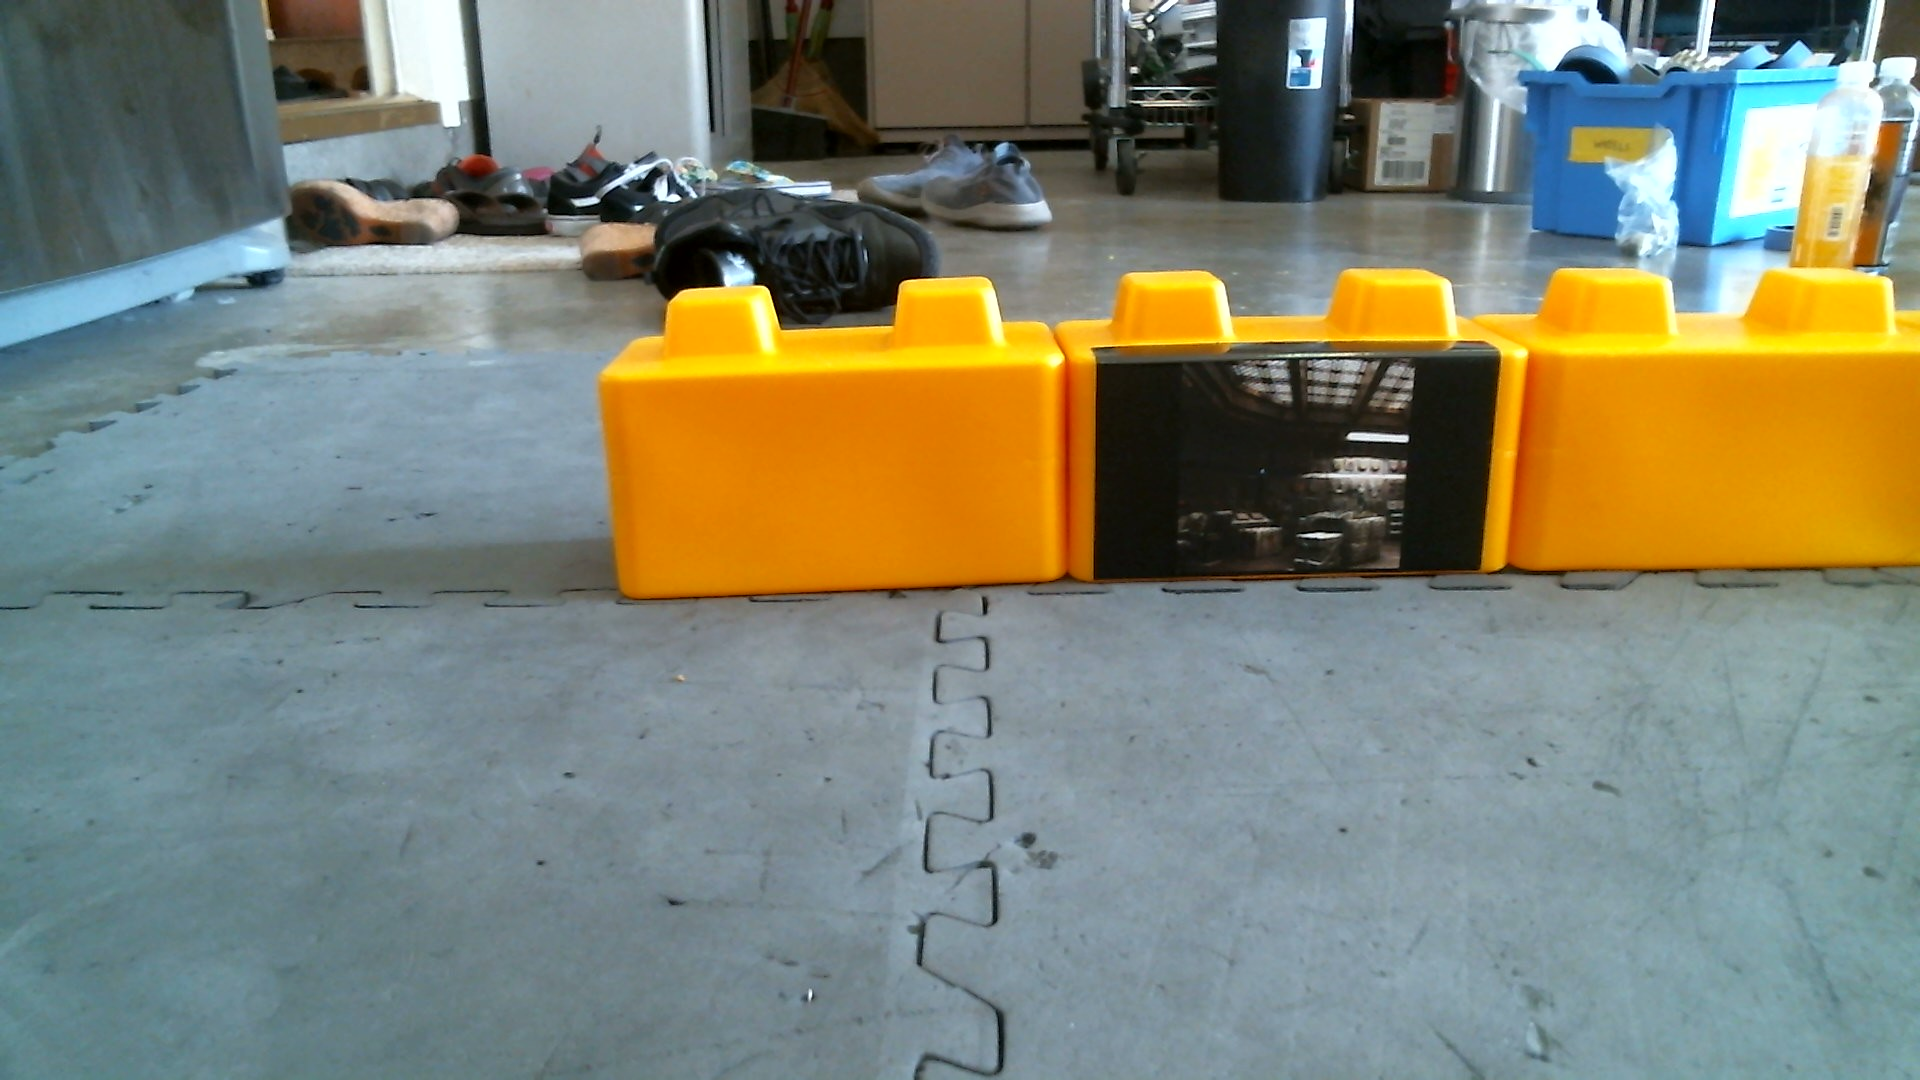skystone: (1080, 277, 1513, 613)
stone: (607, 280, 1075, 604), (1515, 274, 1920, 599)
